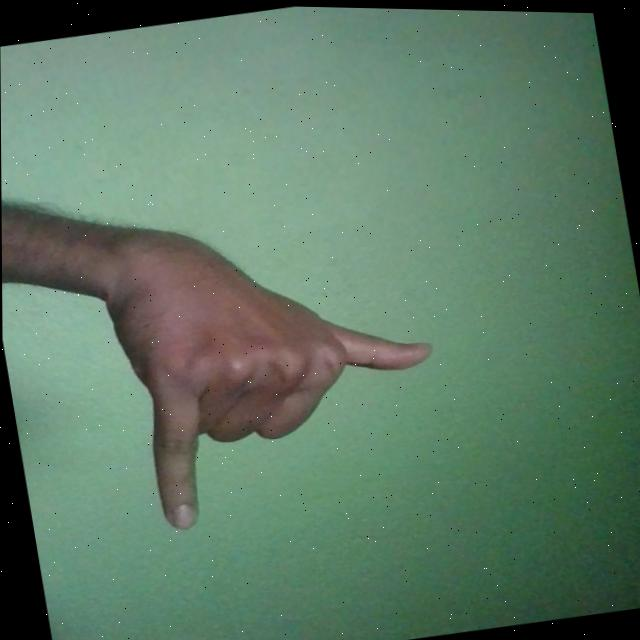Call Me: (90, 181, 456, 541)
